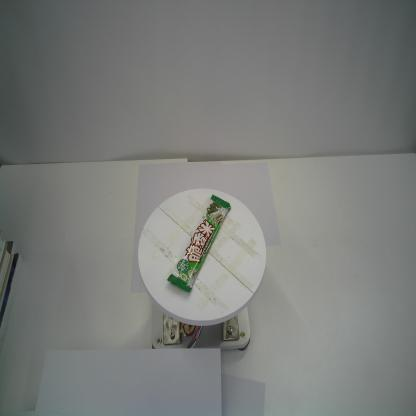Chocolate: (166, 193, 232, 294)
